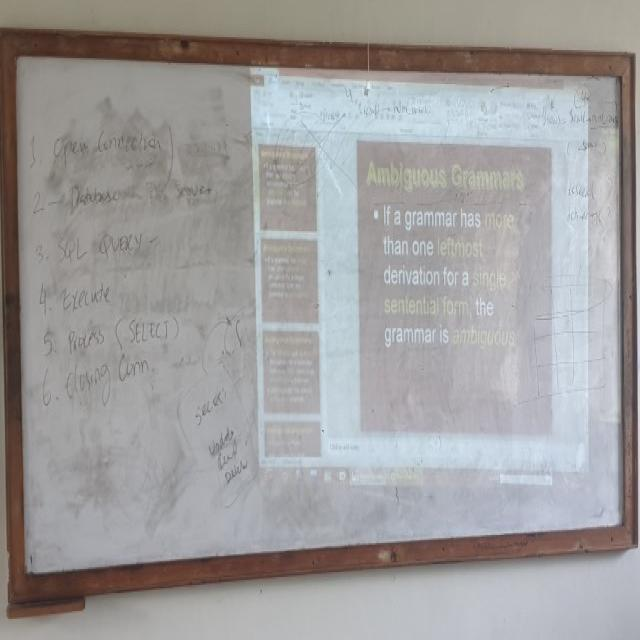Slide: (253, 49, 593, 505)
White-board: (3, 41, 629, 600)
